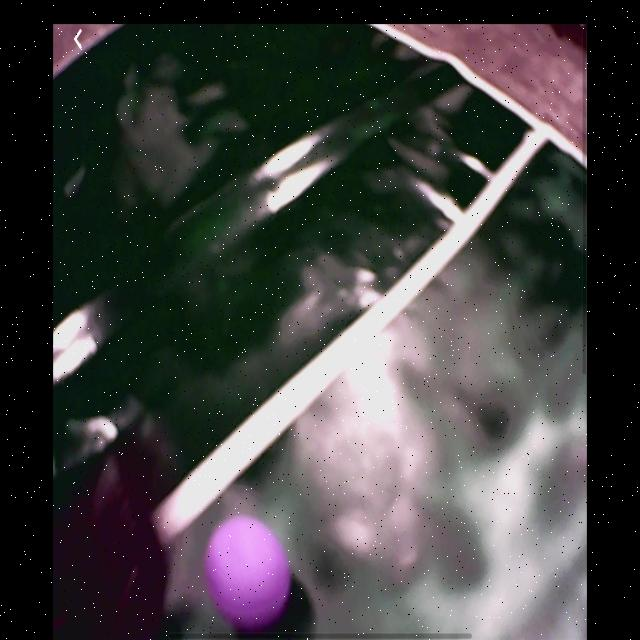ball: (203, 513, 292, 631)
